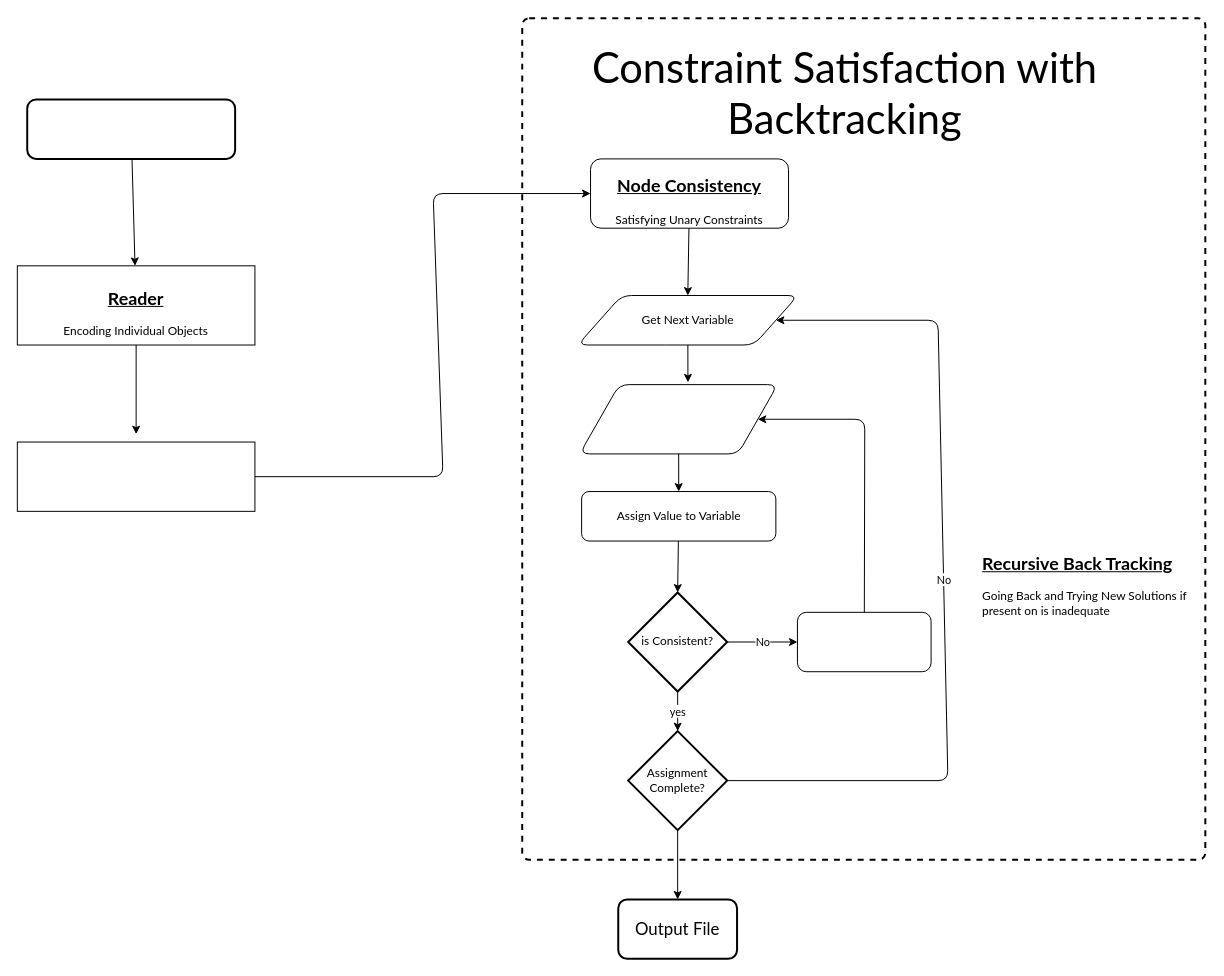
Image size: 1224x976. Some labels were removed from this diagram. The box of each missing label's shape, as (x1, y1, x2, y2) in pixels:
Definiton Define a Static Variable: (16, 441, 255, 511)
Get Next Value for Variable from Domain: (579, 384, 778, 454)
Input File: (26, 98, 236, 159)
Remove Assigned Value from Variable: (796, 611, 931, 672)
